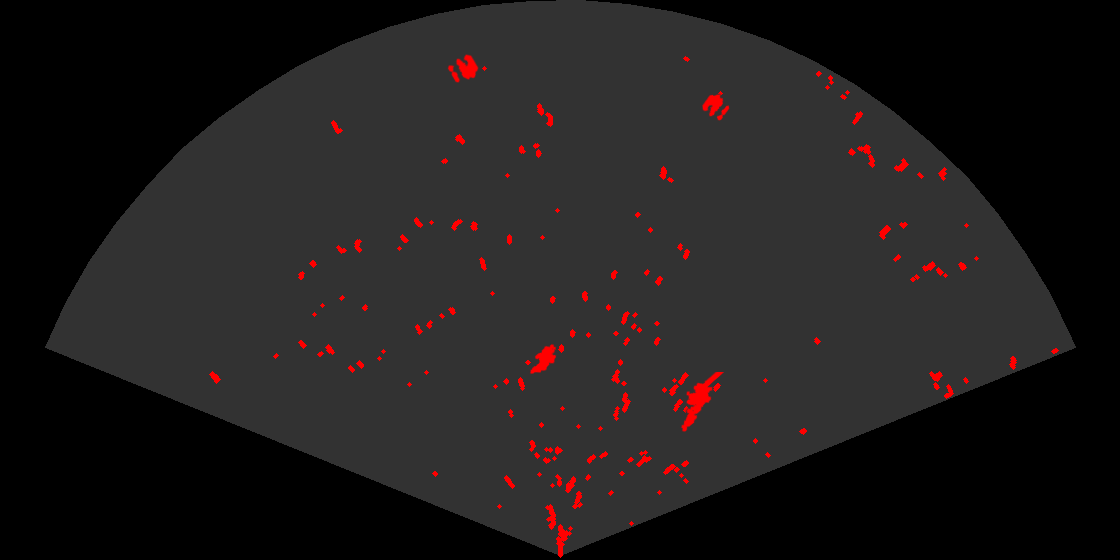AUV: (528, 342, 558, 376)
ball: (446, 53, 480, 84), (701, 93, 731, 122)
frogman: (679, 372, 724, 433)
